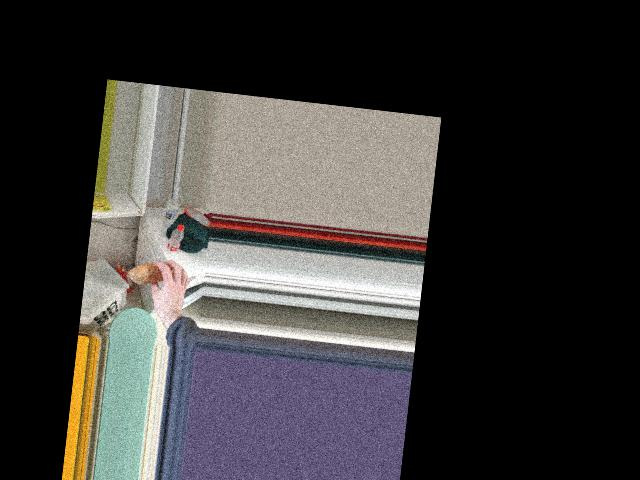sweet_potato: (128, 260, 178, 287)
